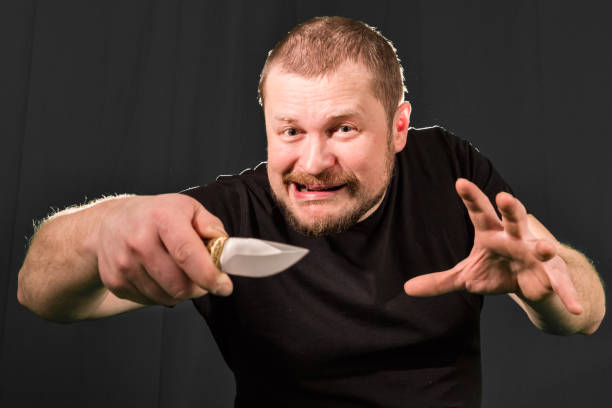knife: (205, 237, 311, 277)
